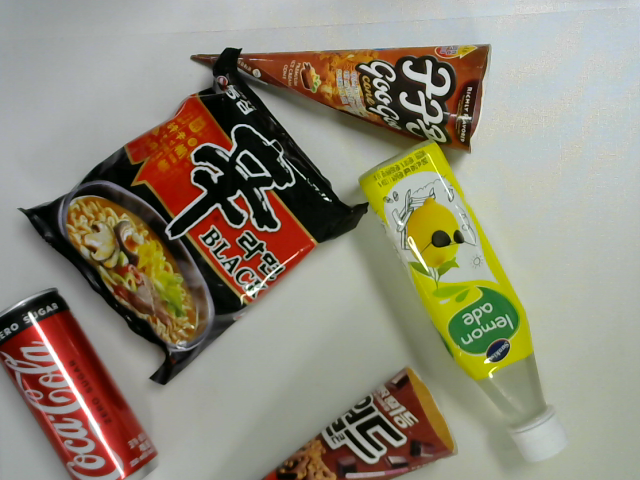Coca_Cola_Zero_Can_250ml: (1, 285, 163, 480)
GooGoo_Cone_CVS: (190, 42, 493, 158)
Sinramen_Black: (14, 43, 370, 387)
Sunkist_Lemonaid_Pet: (353, 139, 572, 470)
World_Cone_Choco: (258, 365, 465, 480)
